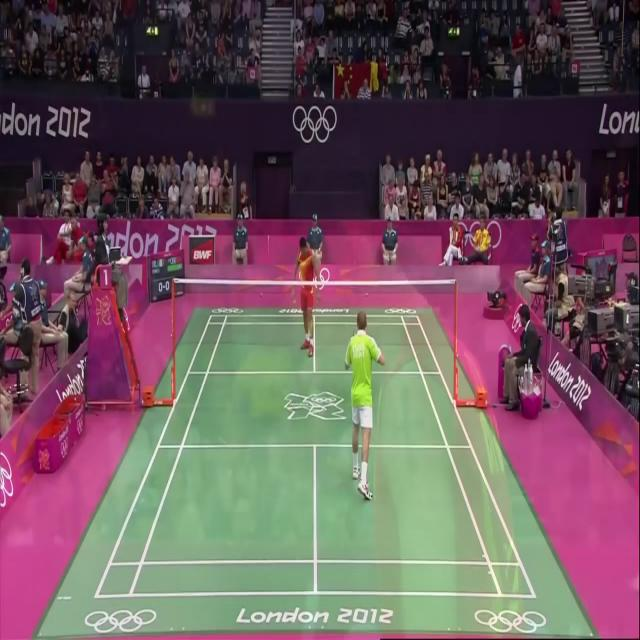Net: (171, 279, 458, 352)
Player1: (335, 298, 385, 500)
Player2: (289, 230, 327, 370)
Shuttlecock: (290, 295, 298, 306)
